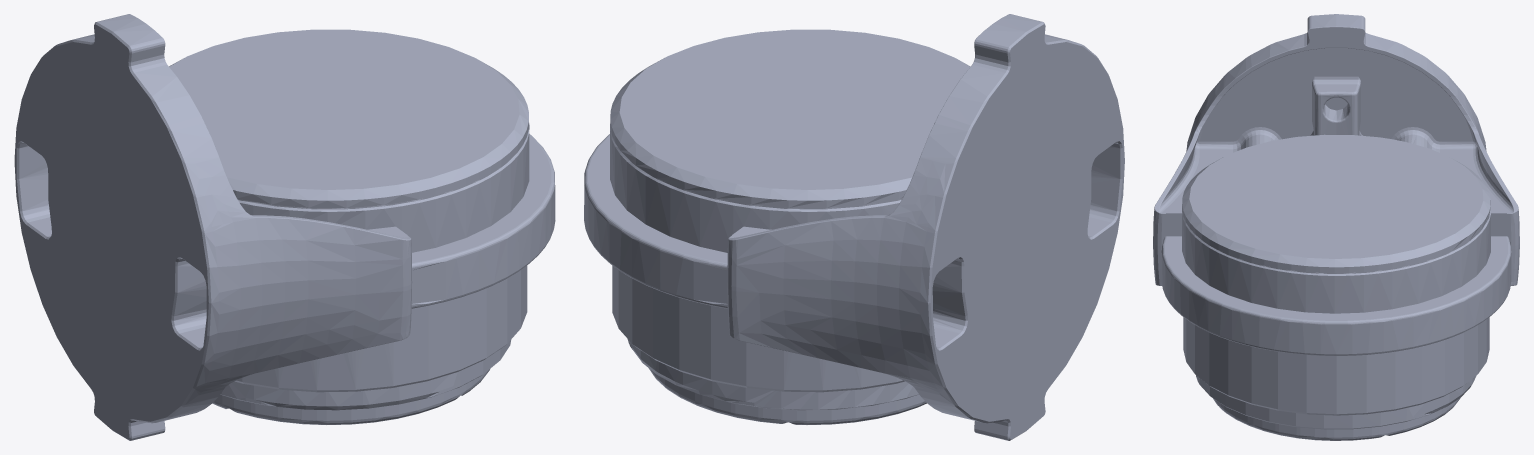
Rendered from left_hip_roll_link.obj.
The picture shows the model from 3 angles, left to right: view 1: azimuth 30°, elevation 25°; view 2: azimuth 150°, elevation 25°; view 3: azimuth 270°, elevation 25°; orthographic projection. The views are drawn at different scales.
Visible parts, largest first — view 1: left_hip_roll_link-mesh; view 2: left_hip_roll_link-mesh; view 3: left_hip_roll_link-mesh.
Part boxes in pixels (x1=…): left_hip_roll_link-mesh: x1=14, y1=14, x2=555, y2=440; left_hip_roll_link-mesh: x1=584, y1=14, x2=1124, y2=440; left_hip_roll_link-mesh: x1=1153, y1=14, x2=1519, y2=440.
Size of the model in its own units: 0.129 by 0.119 by 0.1281.
